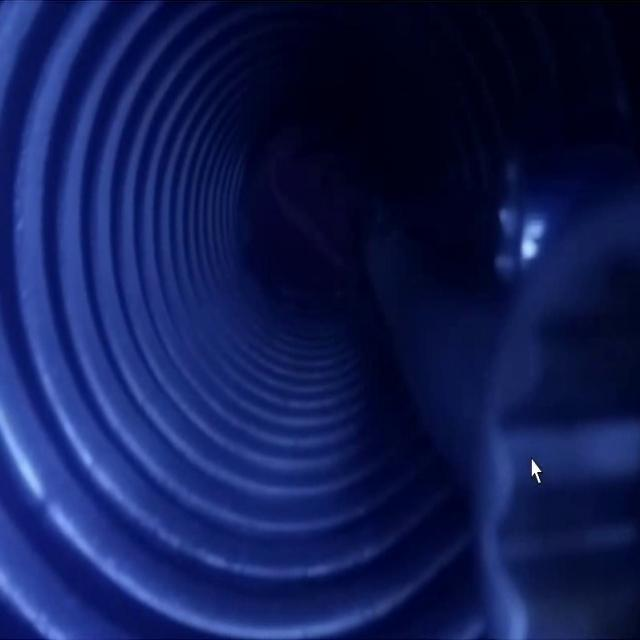metal piece: (425, 169, 640, 636)
